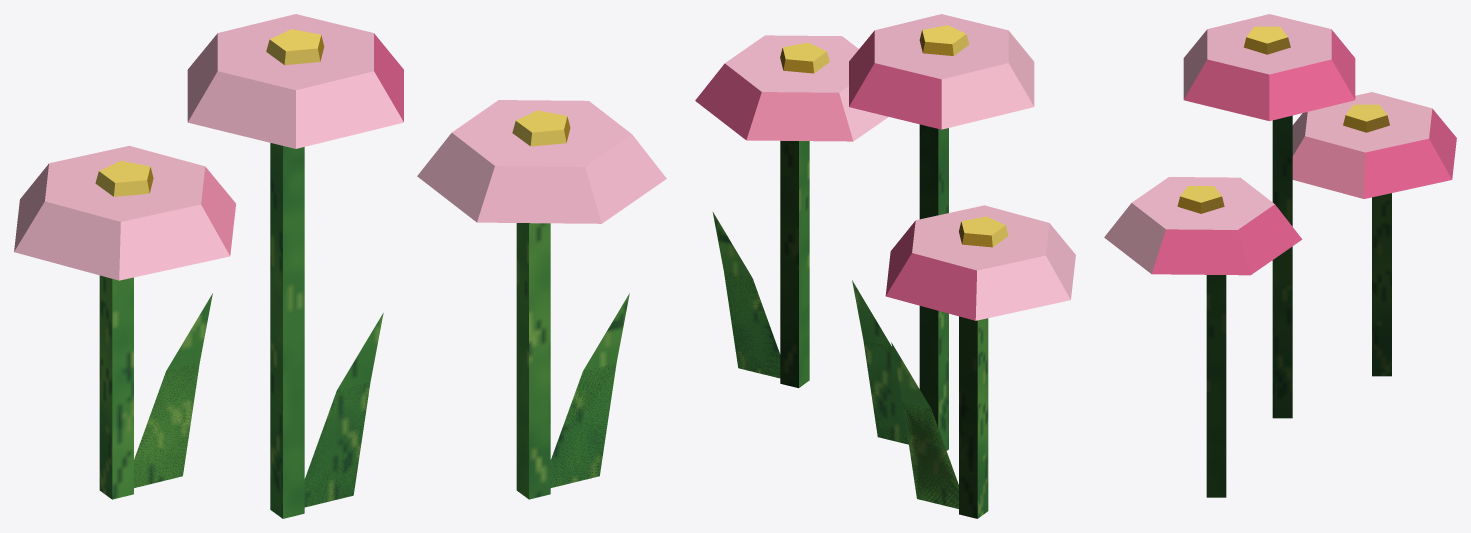
Rendered from flower_pink.glb.
The picture shows the model from 3 angles, left to right: view 1: azimuth 30°, elevation 25°; view 2: azimuth 150°, elevation 25°; view 3: azimuth 270°, elevation 25°; orthographic projection. The views are drawn at different scales.
Visible parts, largest first — view 1: flower_pink; view 2: flower_pink; view 3: flower_pink.
Boxes of the visible parts, x1,y1,x2,y2 form: flower_pink: [14, 14, 666, 518]; flower_pink: [695, 14, 1075, 518]; flower_pink: [1104, 14, 1456, 497].
Size of the model in its own units: 0.4299 by 0.382 by 0.32.
5 materials, 5 textured.
